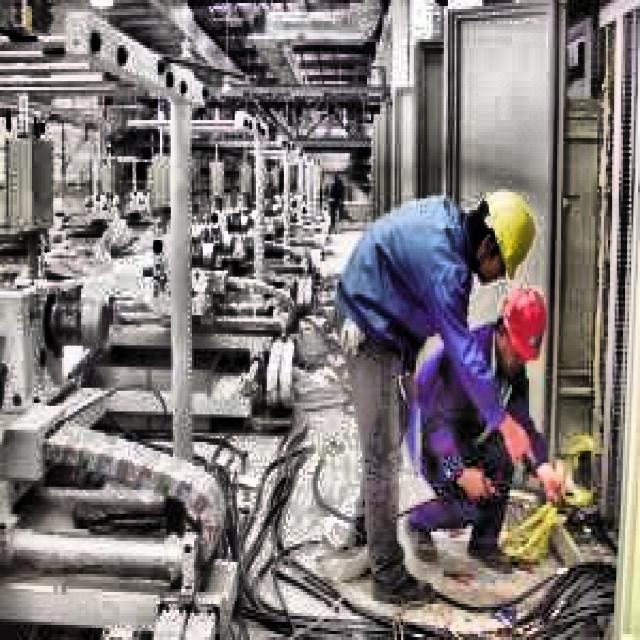helmet: (465, 184, 542, 288), (497, 280, 548, 370)
